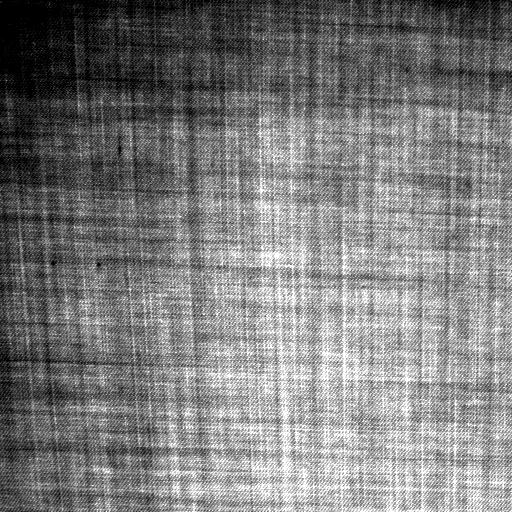fabric_thick_weft: (43, 256, 109, 272)
